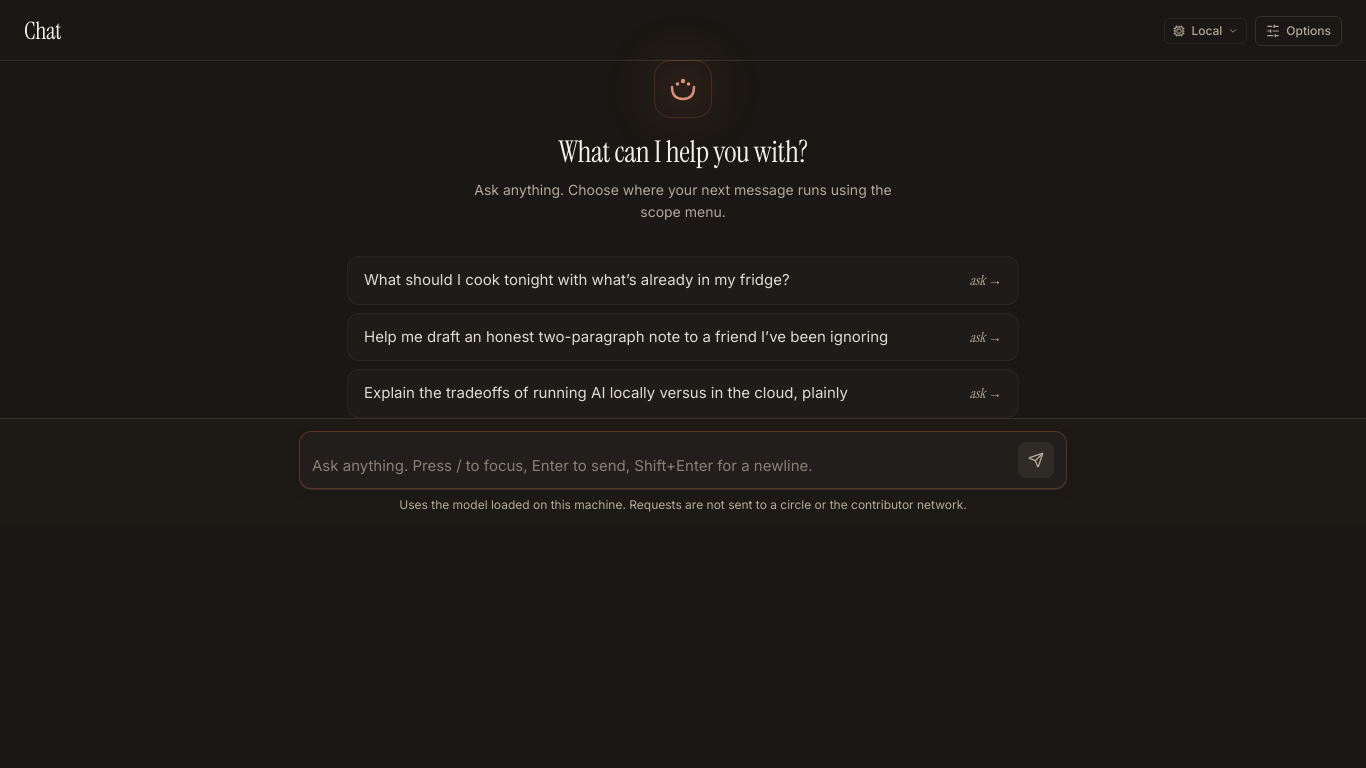
Test: Chat routing disclosure and recovery › discloses contributor and coordinator access without promising anonymity
Click the button with aria-label "Routing scope:" at (1206, 31), box [1164,18,1247,44]
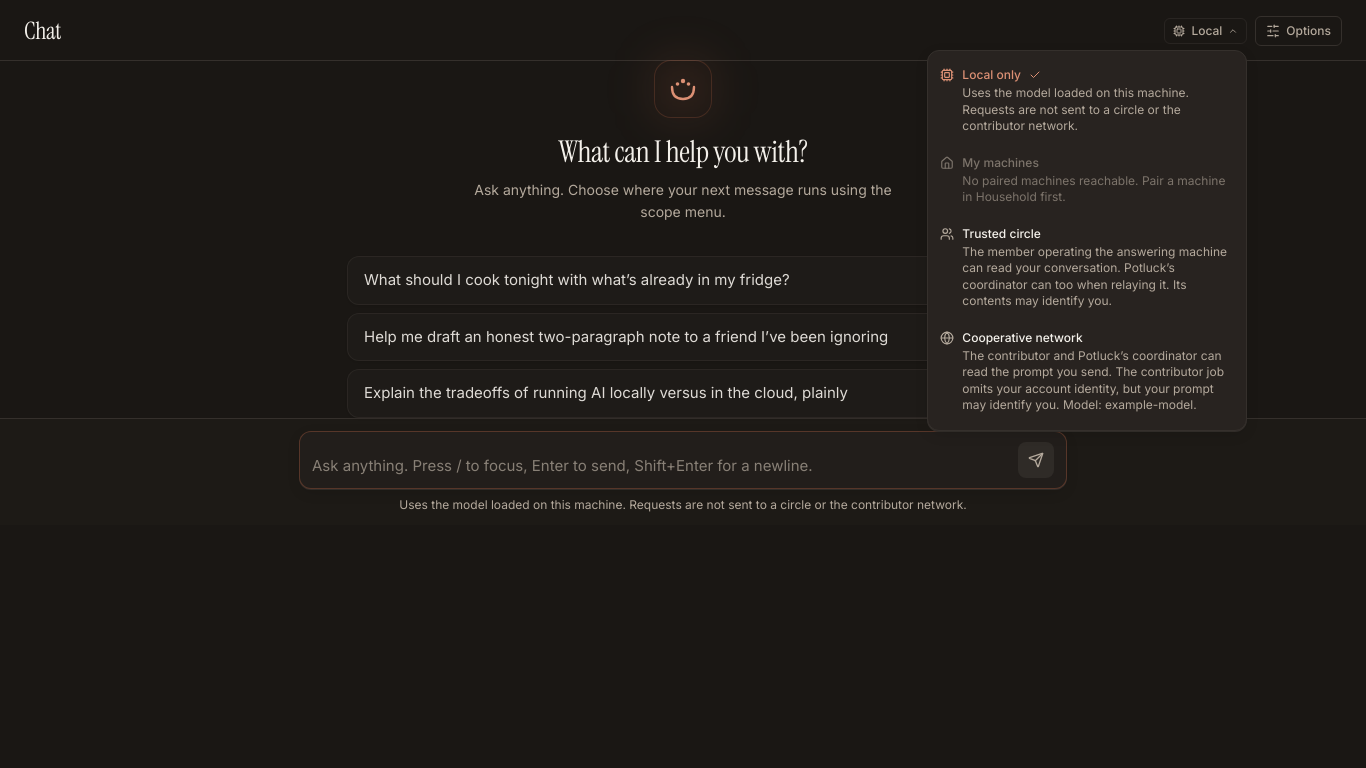
Check: the option "Cooperative network" shows "The contributor and Potluck’s coordinator can read the prompt you send."
Check: the option "Cooperative network" shows "omits your account identity"
Check: the option "Cooperative network" shows "your prompt may identify you"
Click the option "Cooperative network" at (1087, 372), box [928,320,1246,424]
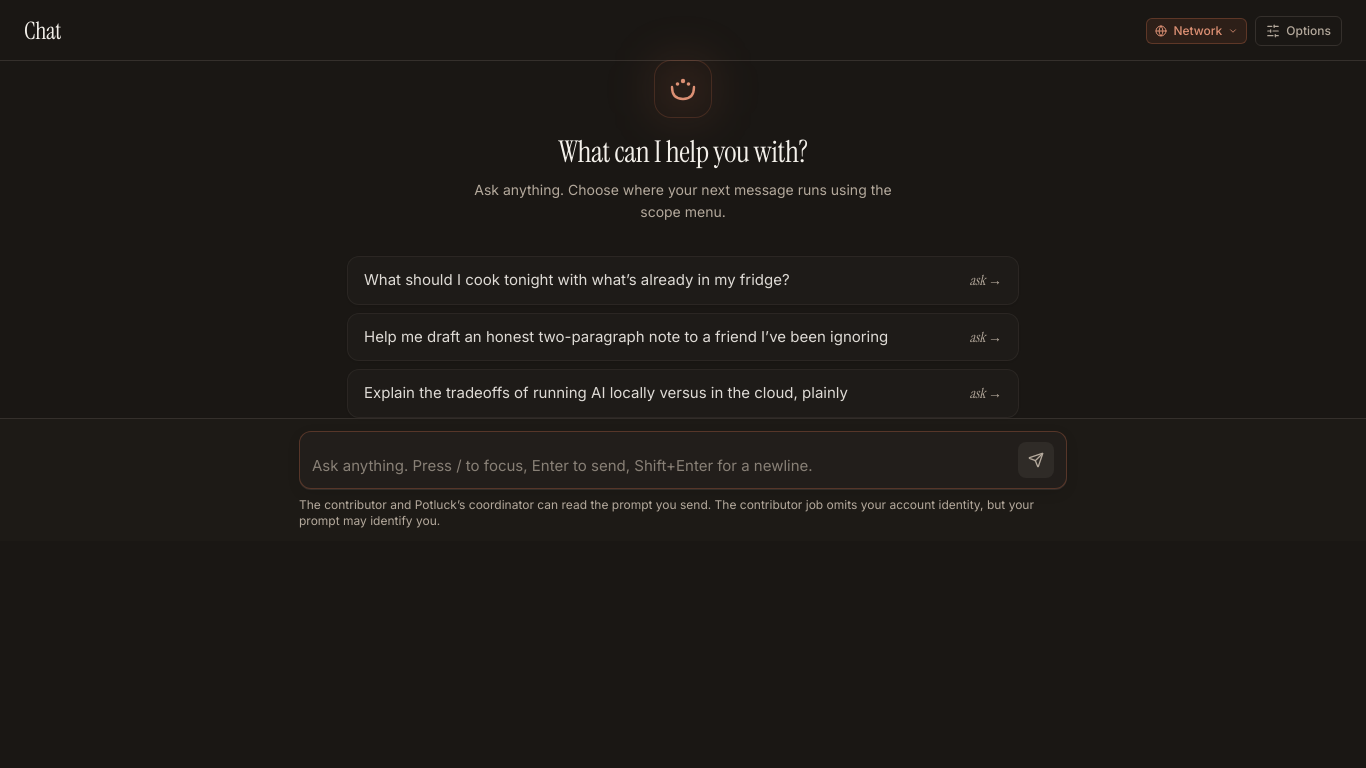
Check: the text "The contributor and Potluck’s coordinator can read" shows "your prompt may identify you", box [299,496,1034,528]
